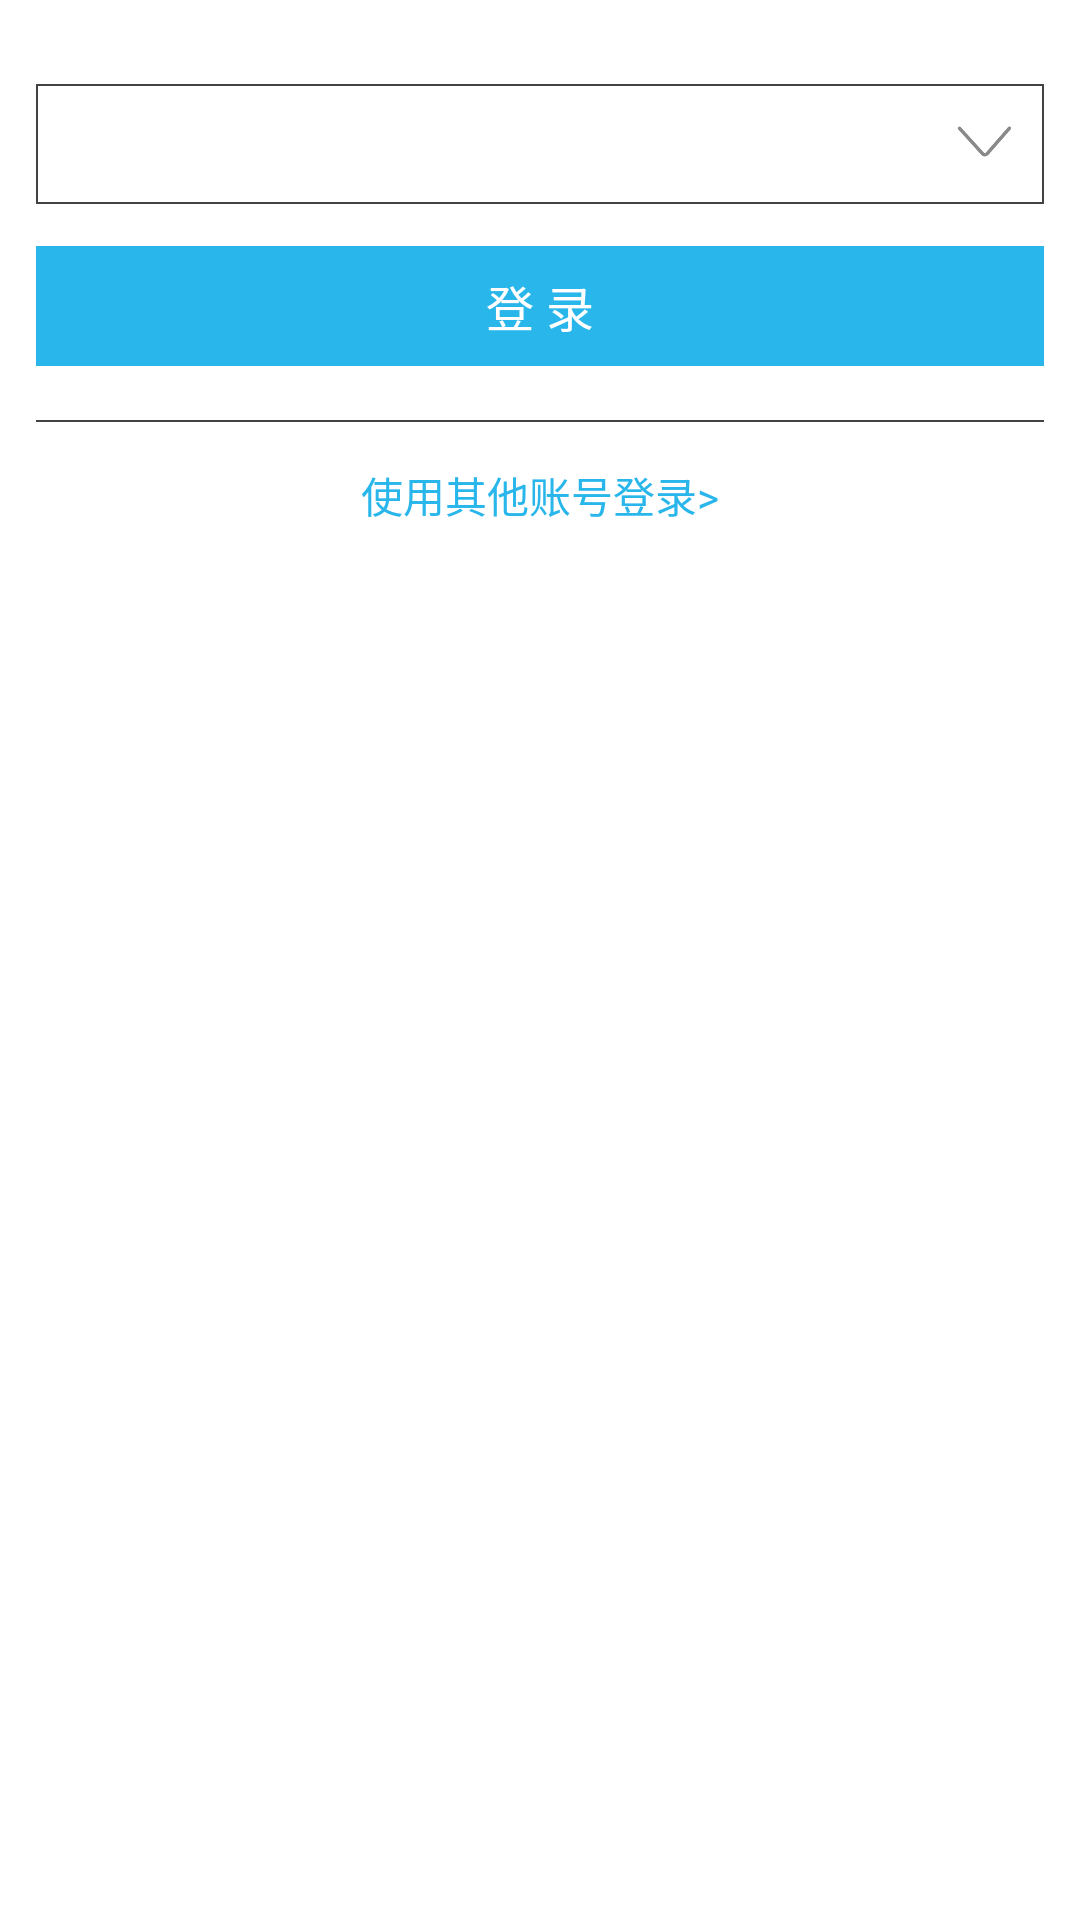

Where icons sit on this 1080×1920 app screen, as (x1, y1, x2, y2):
账号下拉: (924, 84, 1044, 204)
